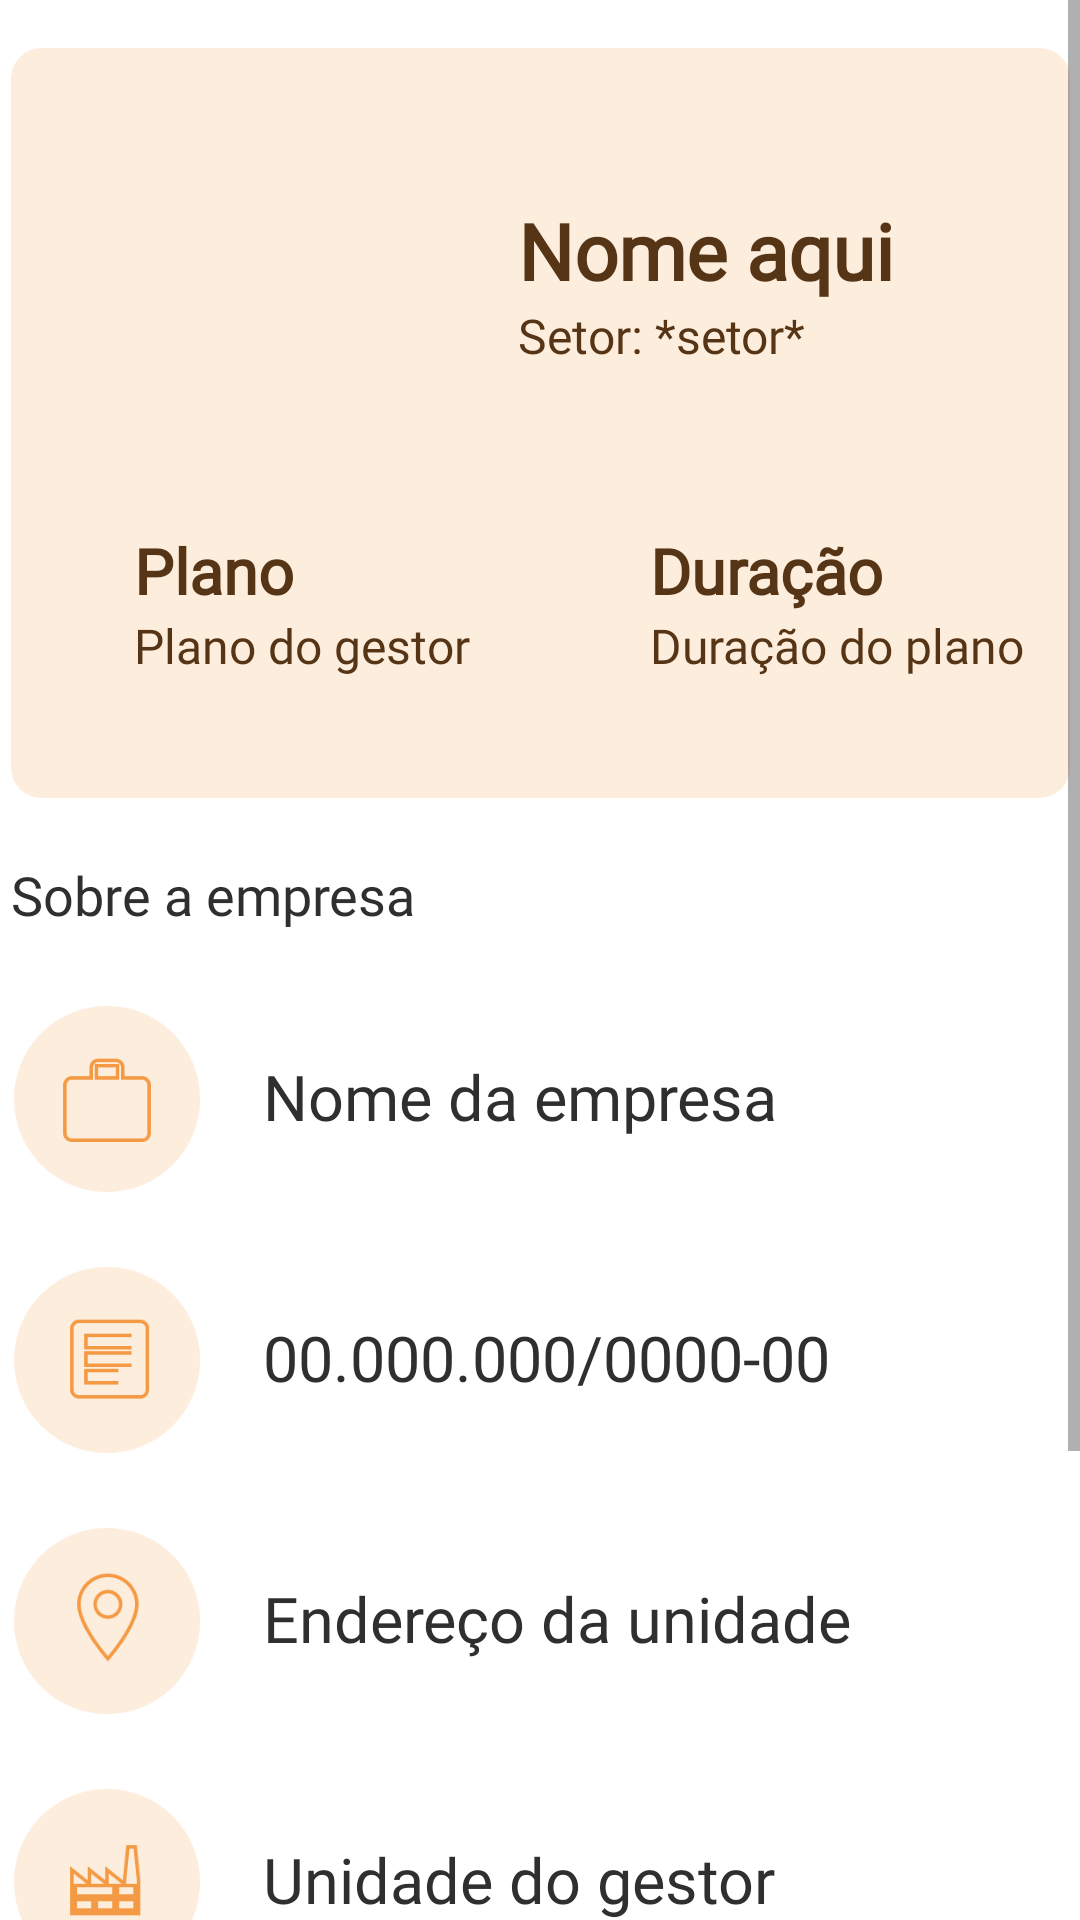

Named icons in this screenshot (1080×1920) and their bounding boxes, (x1, y1, x2, y2):
local empresa: (14, 1528, 200, 1714)
mala nome empresa: (14, 1006, 200, 1192)
